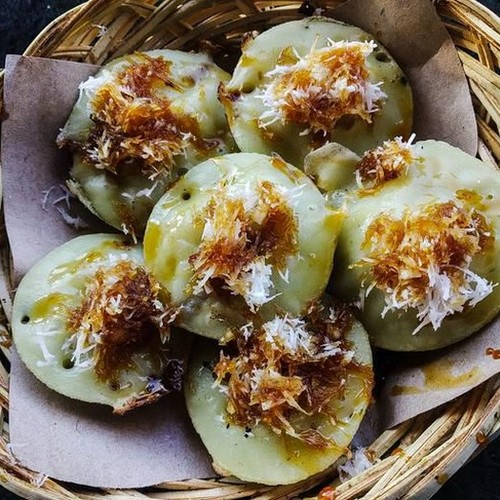laklak: (83, 81, 422, 418)
